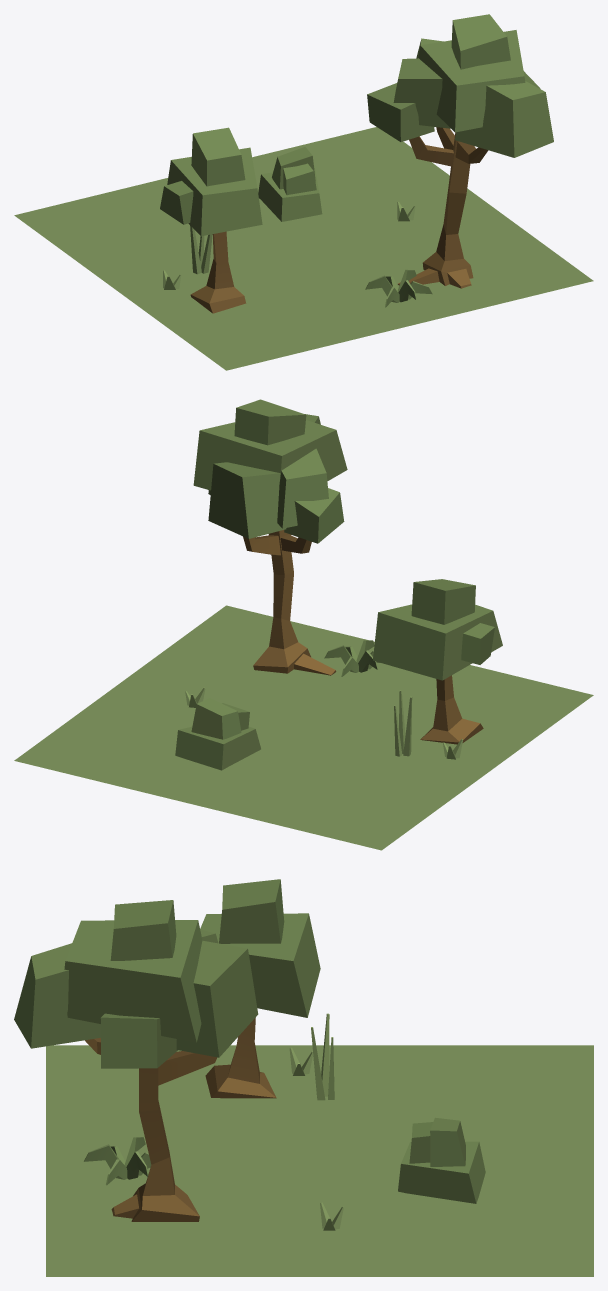
The model's file is SA_Env_ForestTile_01.gltf.
3 views of the same model, one above another, from view 1: azimuth 30°, elevation 25°; view 2: azimuth 150°, elevation 25°; view 3: azimuth 270°, elevation 25° (orthographic). The views are drawn at different scales.
Visible parts, largest first — view 1: SA_Env_ForestTile_01; view 2: SA_Env_ForestTile_01; view 3: SA_Env_ForestTile_01.
Part boxes in pixels (x1,y1,x2,y2): SA_Env_ForestTile_01: (14, 14, 593, 370); SA_Env_ForestTile_01: (14, 399, 593, 850); SA_Env_ForestTile_01: (14, 879, 593, 1276).
Bounding box in the file's own units: 15 × 9.88 × 15.88.
1 material, 1 textured.
